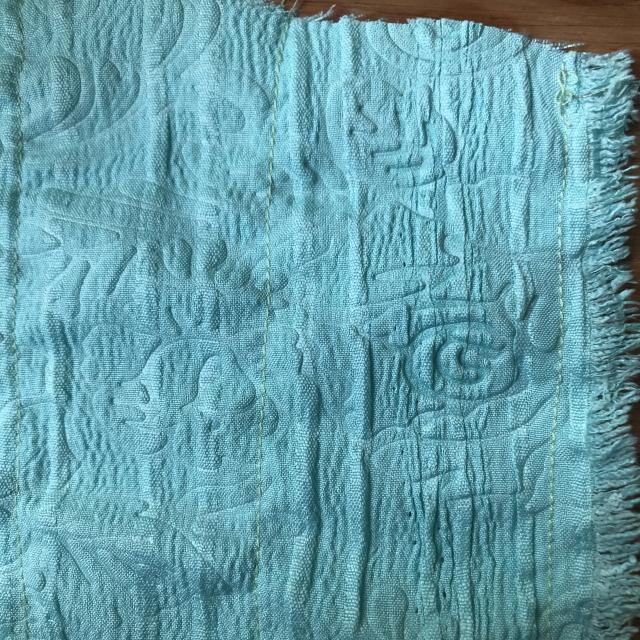good: (548, 219, 570, 320)
